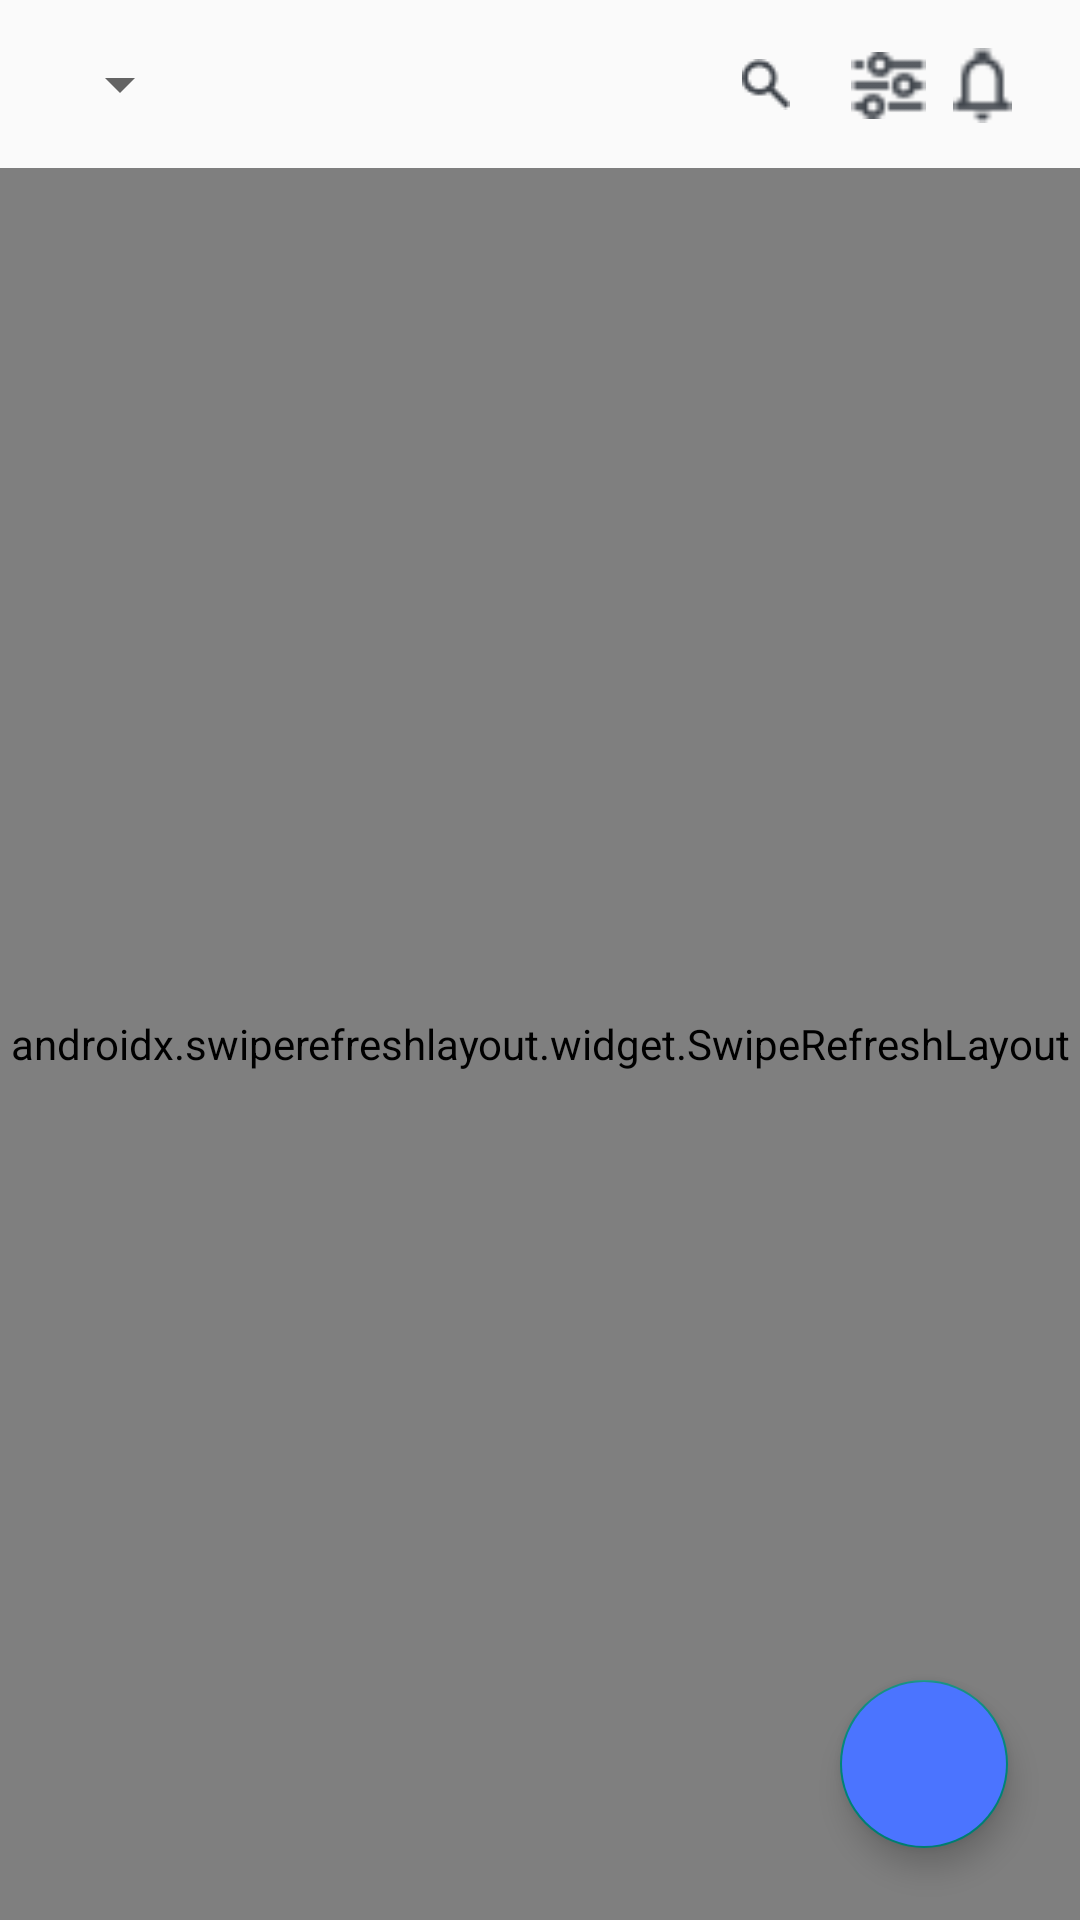

Screen size 1080 × 1920. Icon name, then its center in pixels as (x,y):
alram: (982,85)
filter: (888,85)
